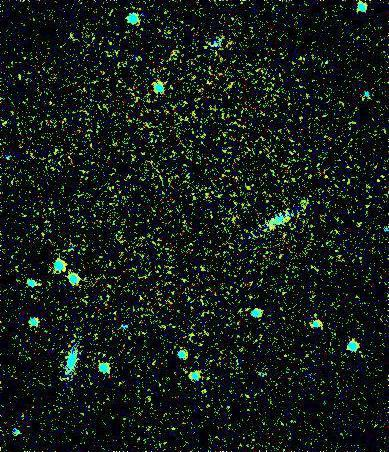star: (347, 83, 377, 113)
